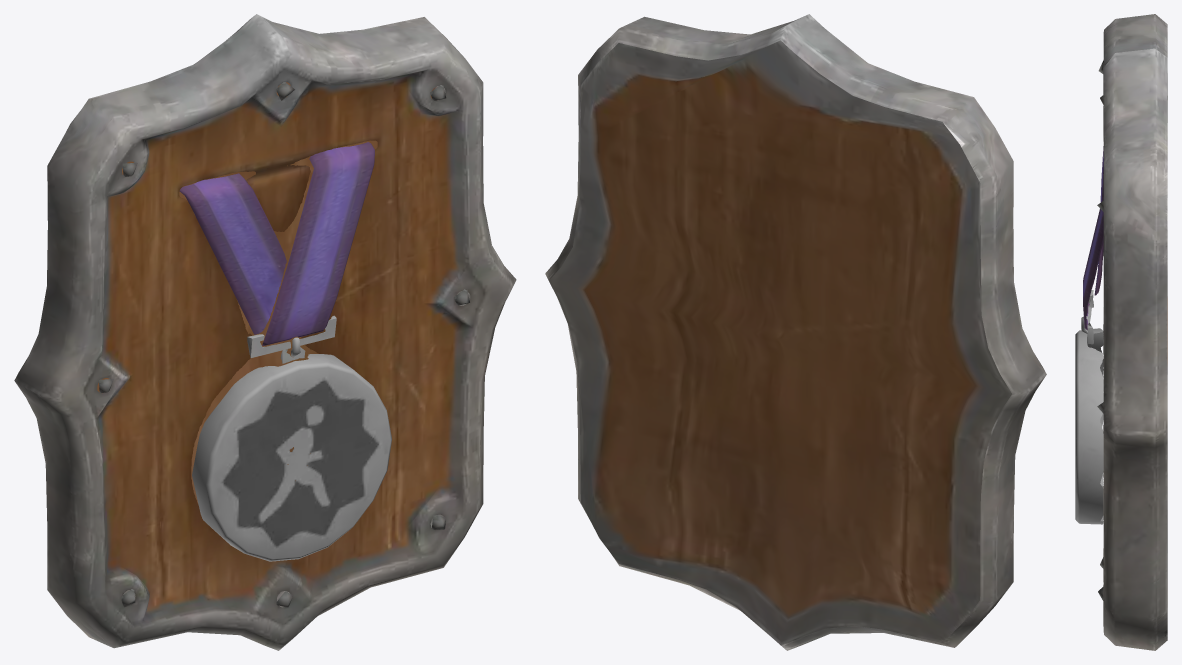
The picture shows the model from 3 angles, left to right: view 1: azimuth 30°, elevation 25°; view 2: azimuth 150°, elevation 25°; view 3: azimuth 270°, elevation 25°; orthographic projection. The views are drawn at different scales.
Parts seen in each view (by area): view 1: SM_Agility_Medal_Silver_01_LOD0; view 2: SM_Agility_Medal_Silver_01_LOD0; view 3: SM_Agility_Medal_Silver_01_LOD0.
Boxes of the visible parts, x1,y1,x2,y2 form: SM_Agility_Medal_Silver_01_LOD0: (14, 14, 516, 650); SM_Agility_Medal_Silver_01_LOD0: (545, 14, 1046, 650); SM_Agility_Medal_Silver_01_LOD0: (1075, 14, 1167, 650).
Bounding box in the file's own units: 0.707 × 0.873 × 0.1282.
Materials: 1 (1 with a texture image).
